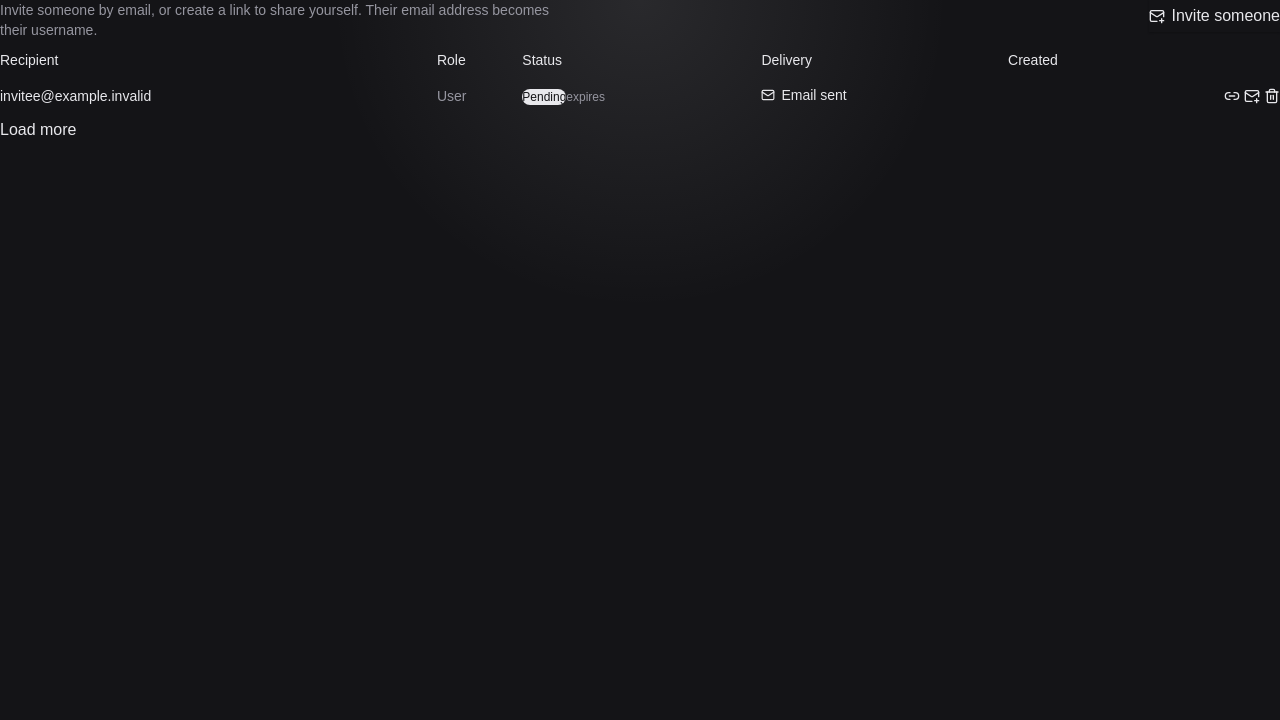
Test: replaces an emailed invitation's link without emailing it
The width and height of the screenshot is (1280, 720).
Click the button titled "Copy a new link without emailing" at [1232, 96], box x1=1224 y1=80 x2=1240 y2=112
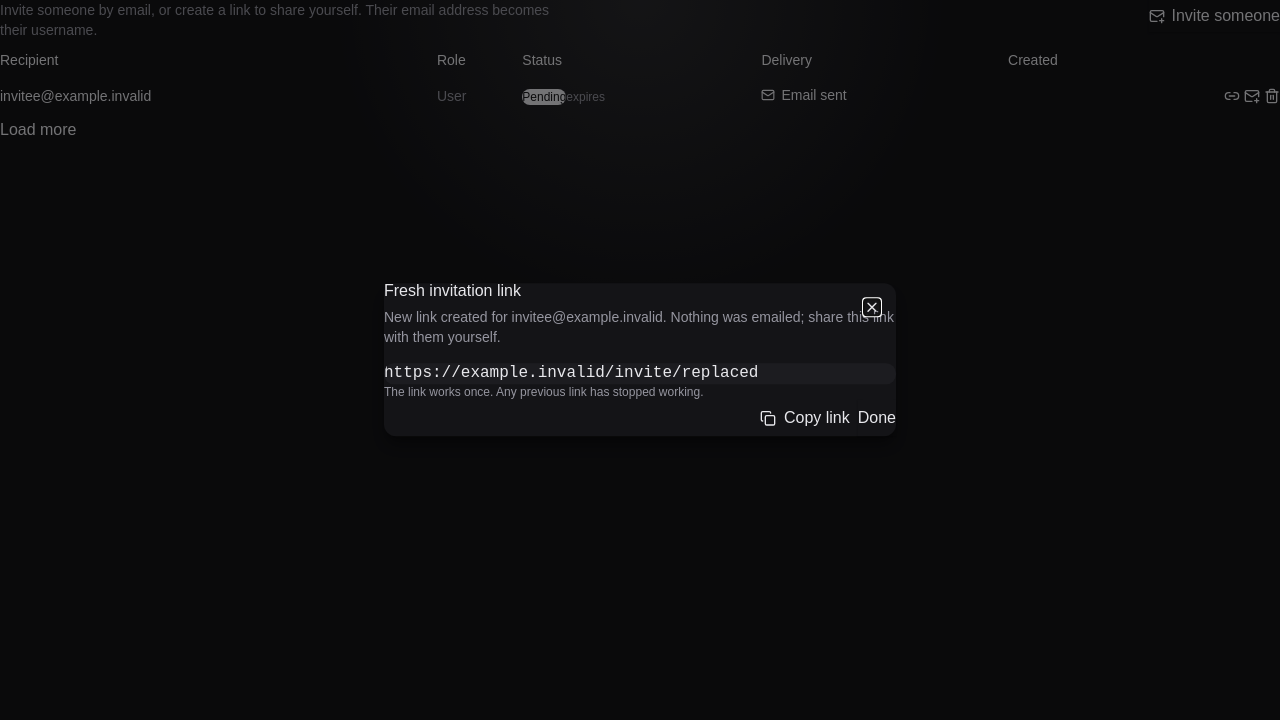
Check: the text "https://example.invalid/invite/replaced" is shown, box x1=384 y1=364 x2=758 y2=382
